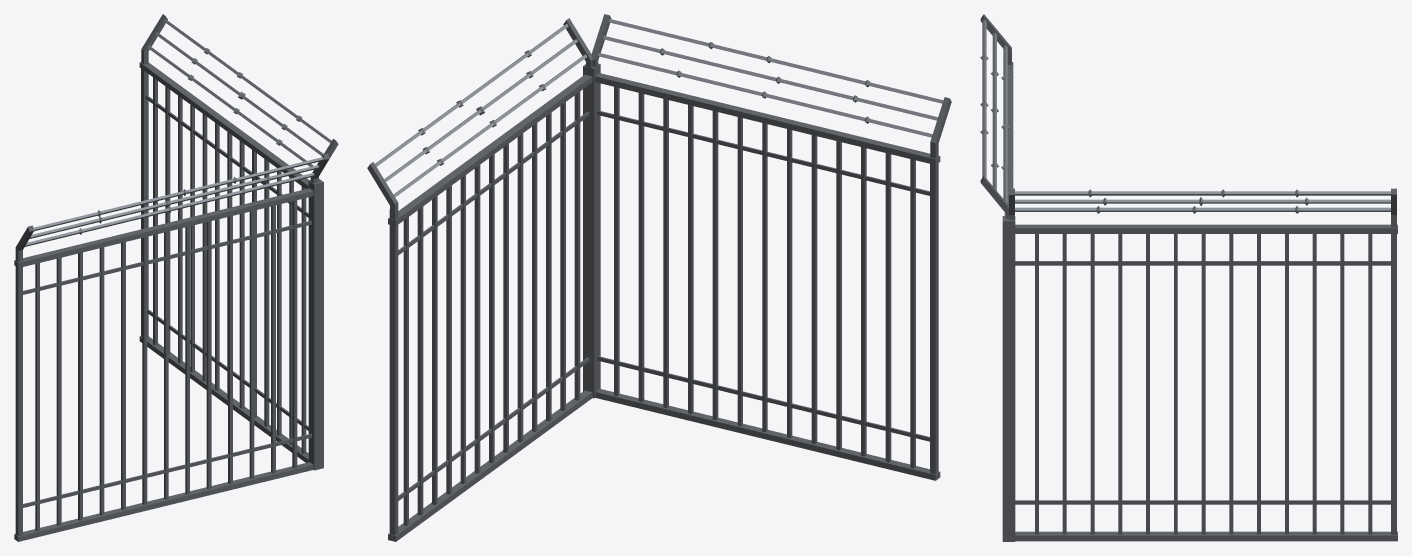
File: Fence_03.fbx
3 renders of one model, left to right at view 1: azimuth 30°, elevation 25°; view 2: azimuth 150°, elevation 25°; view 3: azimuth 270°, elevation 25°, orthographic. The views are drawn at different scales.
Visible parts, largest first — view 1: Fence_03; view 2: Fence_03; view 3: Fence_03.
Part boxes in pixels (bbox=[...]): Fence_03: bbox=[14, 14, 338, 541]; Fence_03: bbox=[367, 14, 951, 541]; Fence_03: bbox=[980, 14, 1397, 541].
Bounding box in the file's own units: 269 × 256 × 269.
